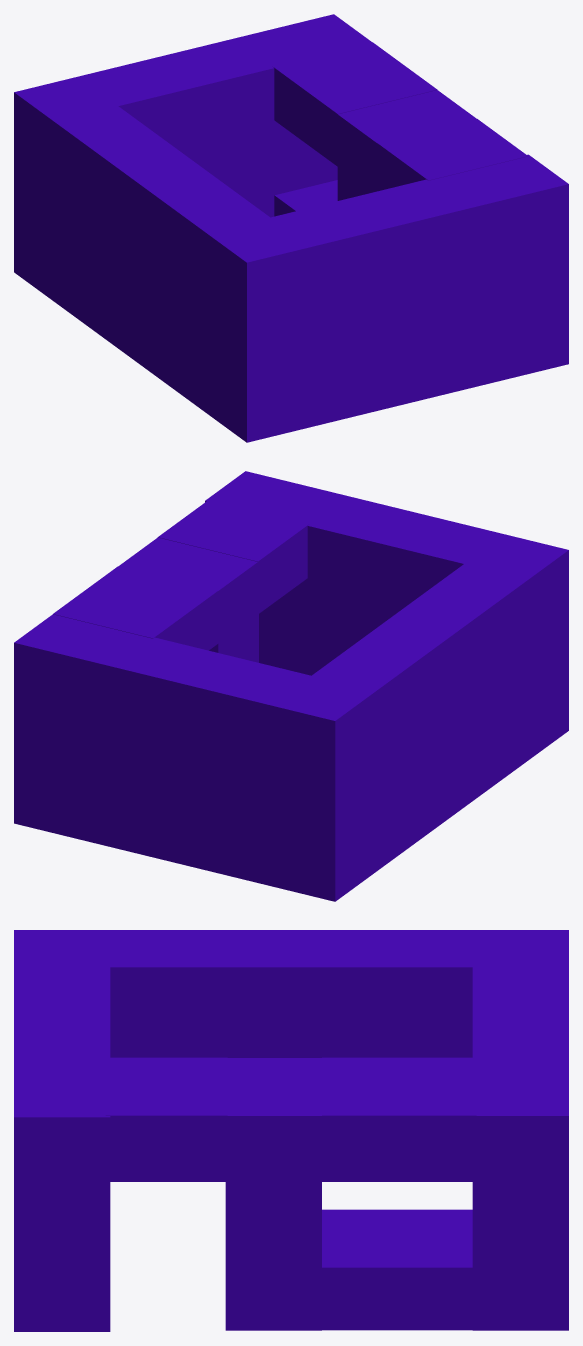
File: SafeZone5.fbx
3 views of the same model, one above another, from view 1: azimuth 30°, elevation 25°; view 2: azimuth 150°, elevation 25°; view 3: azimuth 270°, elevation 25° (orthographic). The views are drawn at different scales.
Visible parts, largest first — view 1: polySurface5; view 2: polySurface5; view 3: polySurface5.
Part boxes in pixels (x1,y1,x2,y2): polySurface5: (14,14,568,442); polySurface5: (14,471,568,901); polySurface5: (14,930,568,1331).
Size of the model in its own units: 3.11 by 1.66 by 3.89.
